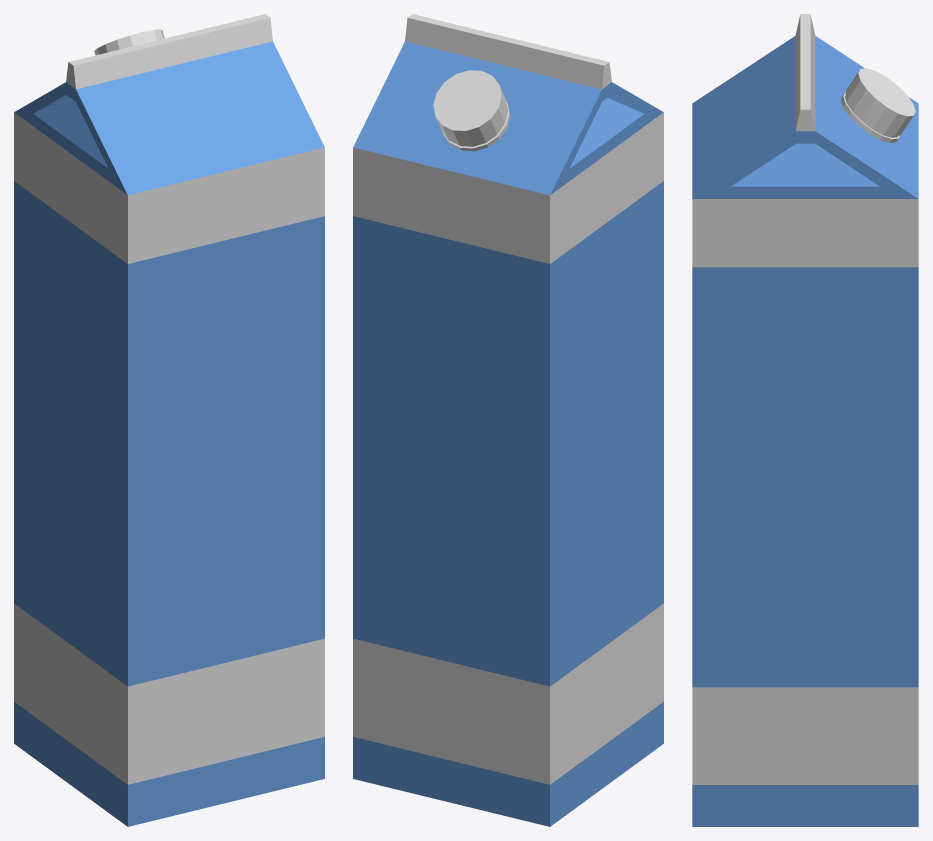
Rendered from milk carton.fbx.
3 renders of one model, left to right at view 1: azimuth 30°, elevation 25°; view 2: azimuth 150°, elevation 25°; view 3: azimuth 270°, elevation 25°, orthographic.
Visible parts, largest first — view 1: Cube; view 2: Cube; view 3: Cube.
Part boxes in pixels (left/top/right/bottom): Cube: left=14, top=14, right=324, bottom=826; Cube: left=353, top=14, right=663, bottom=826; Cube: left=692, top=14, right=918, bottom=826.
Bounding box in the file's own units: 6 × 21 × 6.
